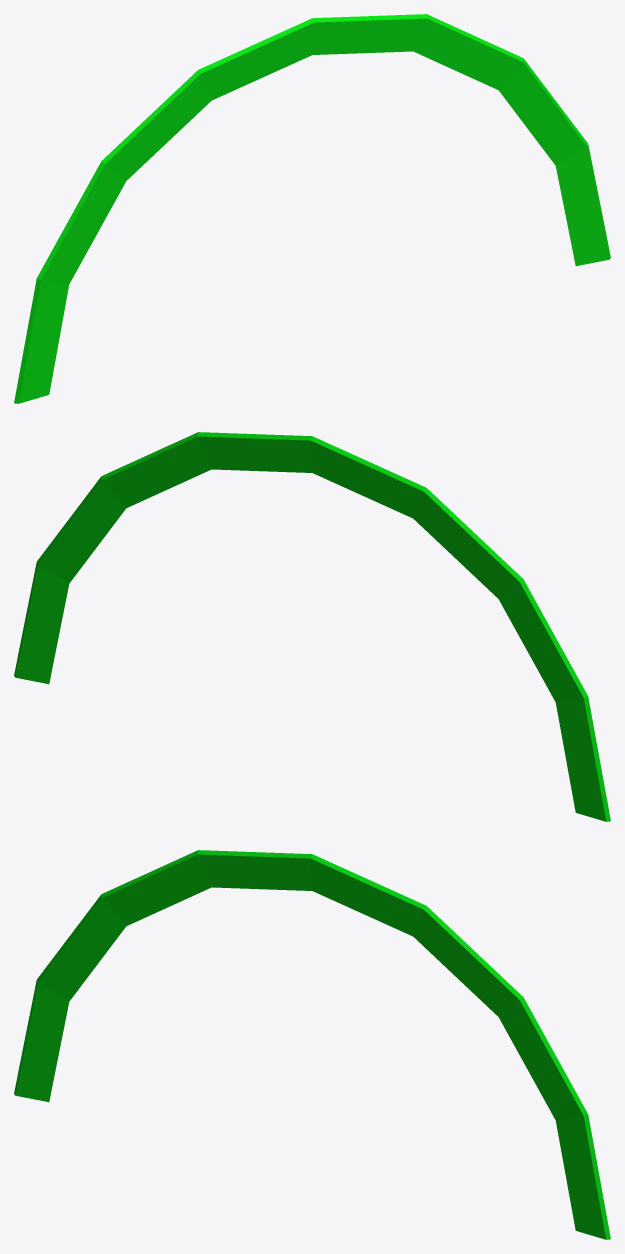
The picture shows the model from 3 angles, top to bottom: view 1: azimuth 30°, elevation 25°; view 2: azimuth 150°, elevation 25°; view 3: azimuth 330°, elevation 25°; orthographic projection.
Parts seen in each view (by area): view 1: XY; view 2: XY; view 3: XY.
Part boxes in pixels (bbox=[...]): XY: bbox=[14, 14, 610, 403]; XY: bbox=[14, 432, 610, 821]; XY: bbox=[14, 850, 610, 1239].
Bounding box in the file's own units: 2.02 × 1.01 × 0.02.
